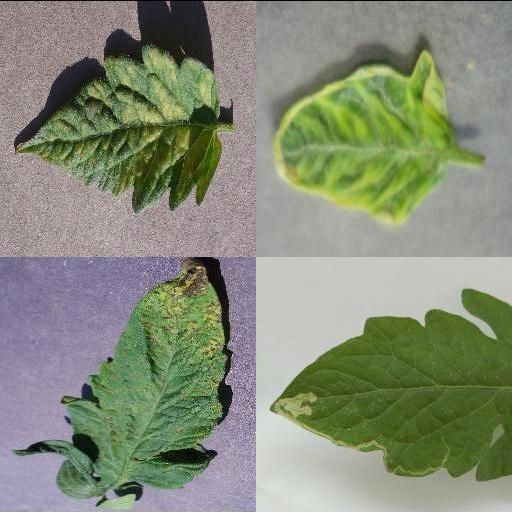Leaf Miner: (268, 288, 512, 482)
Leaf Mold: (11, 41, 219, 213)
Septoria: (60, 256, 228, 489)
Yellow Leaf Curl Virus: (274, 48, 458, 226)
